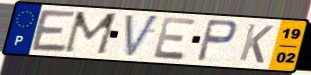E: (28, 8, 78, 54), (151, 16, 199, 62)
K: (236, 22, 276, 66)
M: (61, 10, 121, 57)
P: (194, 18, 239, 64)
V: (123, 13, 162, 60)
